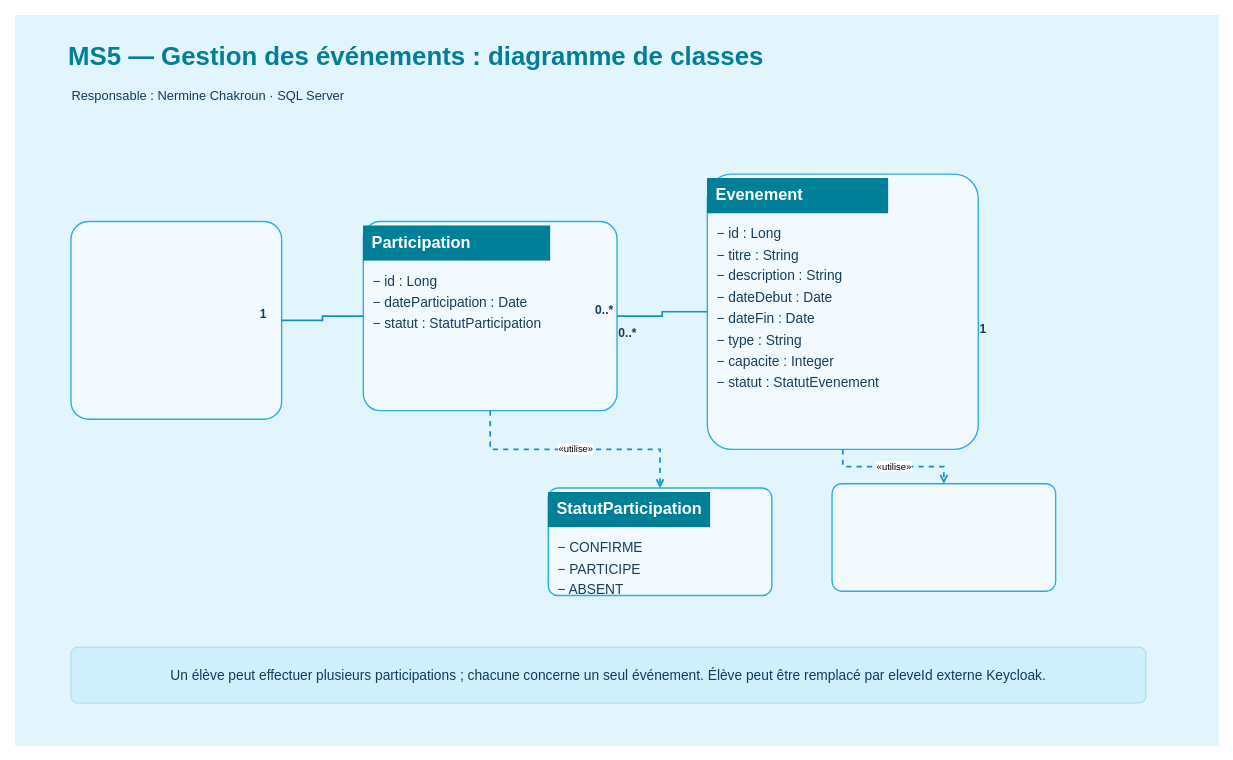
The diagram is 1233 pixels wide and 760 high, and some of its shapes have lost their labels. Here are the shapes that lost their labels. From the top down, the centre of each, then its label:
At pixel 176 320: "Eleve − id : Long − nom : String − prenom : String − niveau : String".
At pixel 943 537: "StatutEvenement − A_VENIR − EN_COURS − TERMINE".
